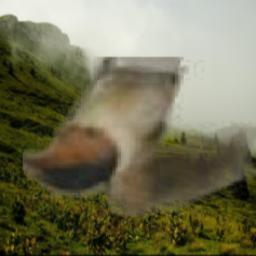Swallow: (22, 57, 256, 217)
